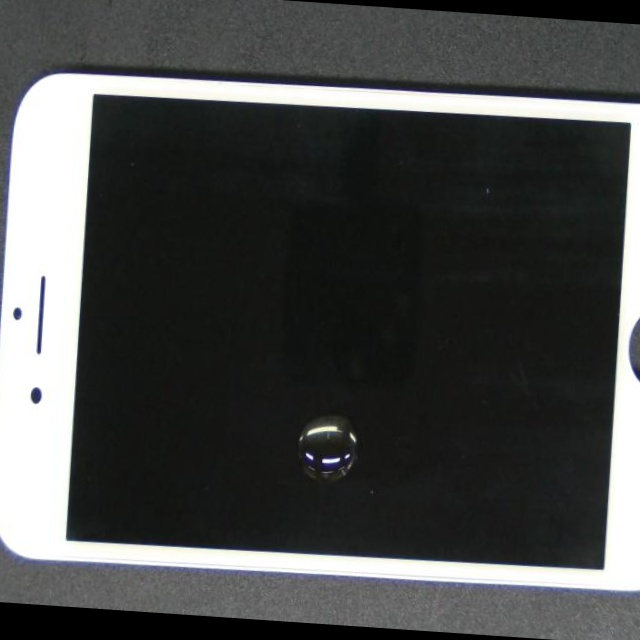oil: (153, 228, 570, 639)
